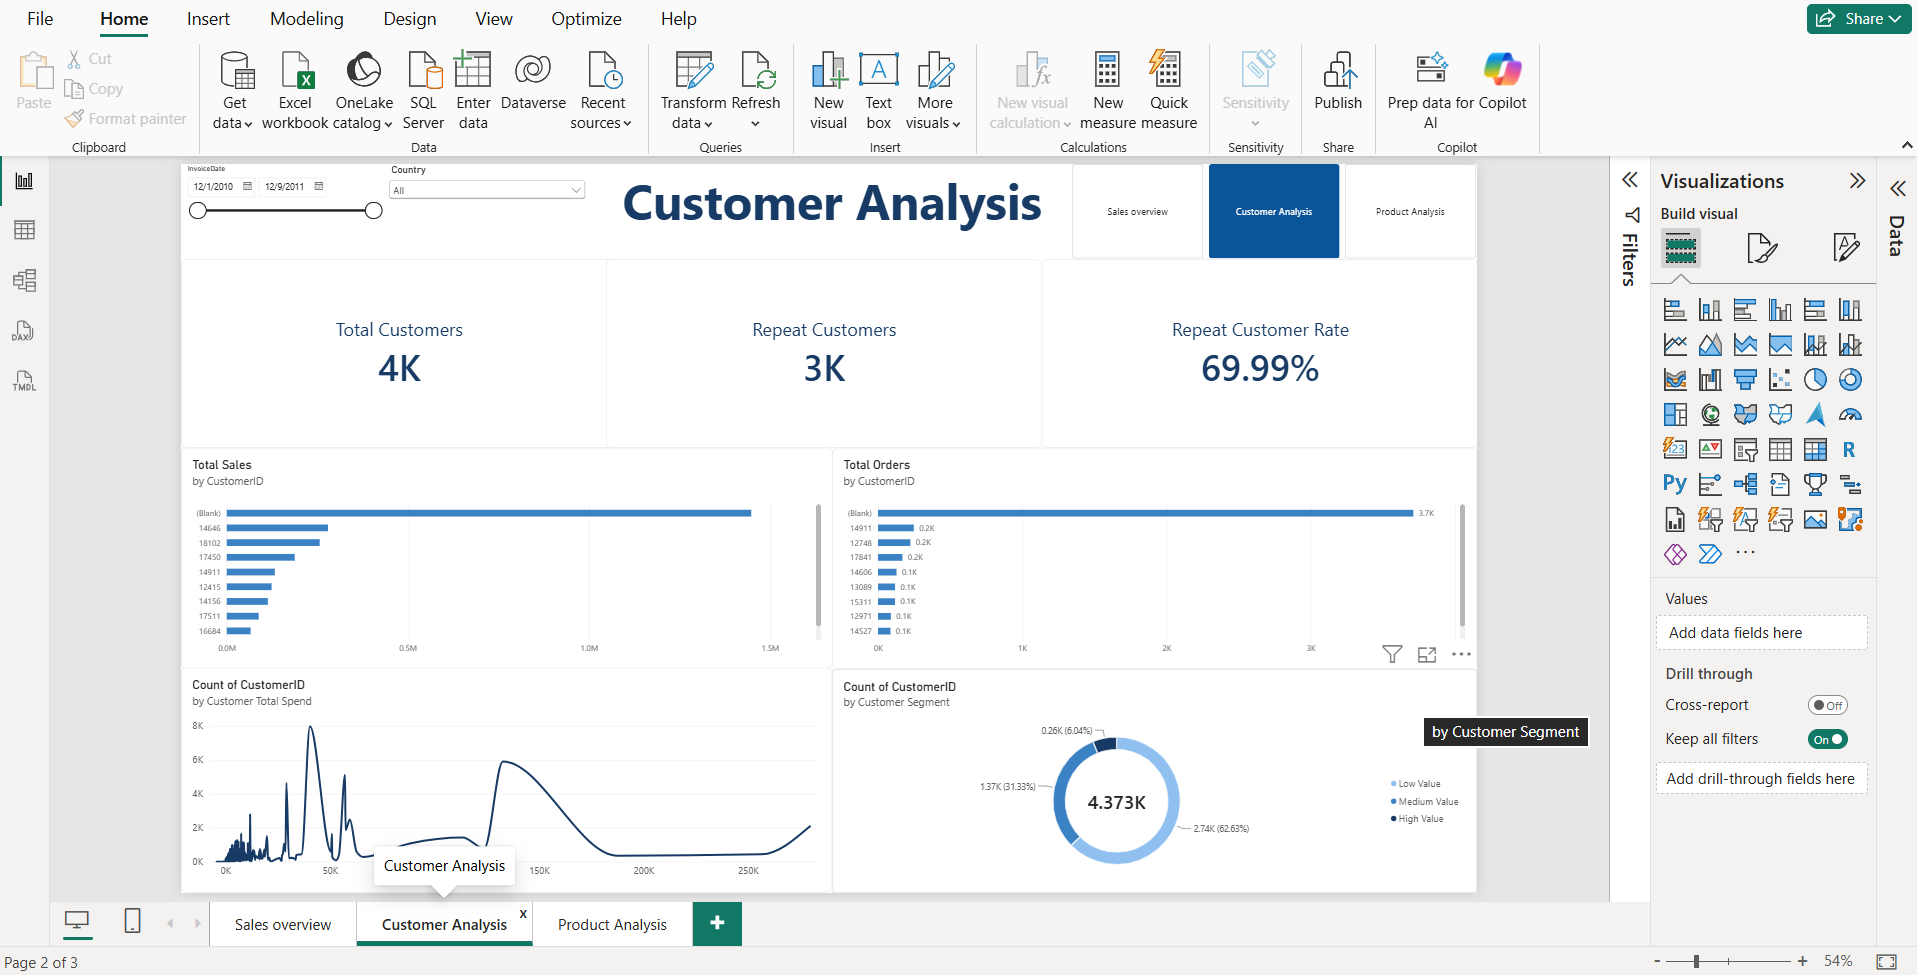

The page's visual inventory and layout, read from the dashboard file:
{"tool":"powerbi","page":{"name":"Customer Analysis","canvas":[1920,1080],"ordinal":1},"visuals":[{"type":"cardVisual","fields":{"Data":["Online Retail.Total Customers"]},"box":[0,140,645,280],"z":0},{"type":"cardVisual","fields":{"Data":["Online Retail.Repeat Customers"]},"box":[630,140,645,280],"z":1000},{"type":"cardVisual","fields":{"Data":["Online Retail.Customer Retention Rate"]},"box":[1275,140,645,280],"z":2000},{"type":"clusteredBarChart","fields":{"Category":["Online Retail.CustomerID"],"Y":["Online Retail.Total Sales"]},"box":[0,420,965.7,327.1],"z":3000},{"type":"clusteredBarChart","fields":{"Category":["Online Retail.CustomerID"],"Y":["Online Retail.Total Orders"]},"box":[965,420,955,327.5],"z":4000},{"type":"donutChart","fields":{"Category":["Online Retail.Customer Segment"],"Y":["Count(Online Retail.CustomerID)"]},"box":[965,747.5,955,332.5],"z":5000},{"type":"lineChart","fields":{"Category":["Online Retail.Customer Total Spend"],"Y":["CountNonNull(Online Retail.CustomerID)"]},"box":[0,747.1,965,332.5],"z":6000},{"type":"slicer","fields":{"Values":["Online Retail.InvoiceDate"]},"box":[1.4,0,300,130],"z":7000},{"type":"slicer","fields":{"Values":["Online Retail.Country"]},"box":[304.3,0,300,140],"z":8000},{"type":"pageNavigator","box":[1320,0,600,140],"z":9000},{"type":"textbox","box":[608,5.4,714.8,130.3],"z":11000}]}

Visuals, with their boxes on the page's 1920x1080 design canvas (x1, y1, x2, y2). These are canvas units, not pixel positions in the 1917x975 screenshot, which may show the page scaled, cropped or inside an application window:
cardVisual - Online Retail.Total Customers: {"left": 0, "top": 140, "right": 645, "bottom": 420}
cardVisual - Online Retail.Repeat Customers: {"left": 630, "top": 140, "right": 1275, "bottom": 420}
cardVisual - Online Retail.Customer Retention Rate: {"left": 1275, "top": 140, "right": 1920, "bottom": 420}
clusteredBarChart - Online Retail.CustomerID x Online Retail.Total Sales: {"left": 0, "top": 420, "right": 966, "bottom": 747}
clusteredBarChart - Online Retail.CustomerID x Online Retail.Total Orders: {"left": 965, "top": 420, "right": 1920, "bottom": 748}
donutChart - Online Retail.Customer Segment x Count(Online Retail.CustomerID): {"left": 965, "top": 748, "right": 1920, "bottom": 1080}
lineChart - Online Retail.Customer Total Spend x CountNonNull(Online Retail.CustomerID): {"left": 0, "top": 747, "right": 965, "bottom": 1080}
slicer - Online Retail.InvoiceDate: {"left": 1, "top": 0, "right": 301, "bottom": 130}
slicer - Online Retail.Country: {"left": 304, "top": 0, "right": 604, "bottom": 140}
pageNavigator: {"left": 1320, "top": 0, "right": 1920, "bottom": 140}
textbox: {"left": 608, "top": 5, "right": 1323, "bottom": 136}
